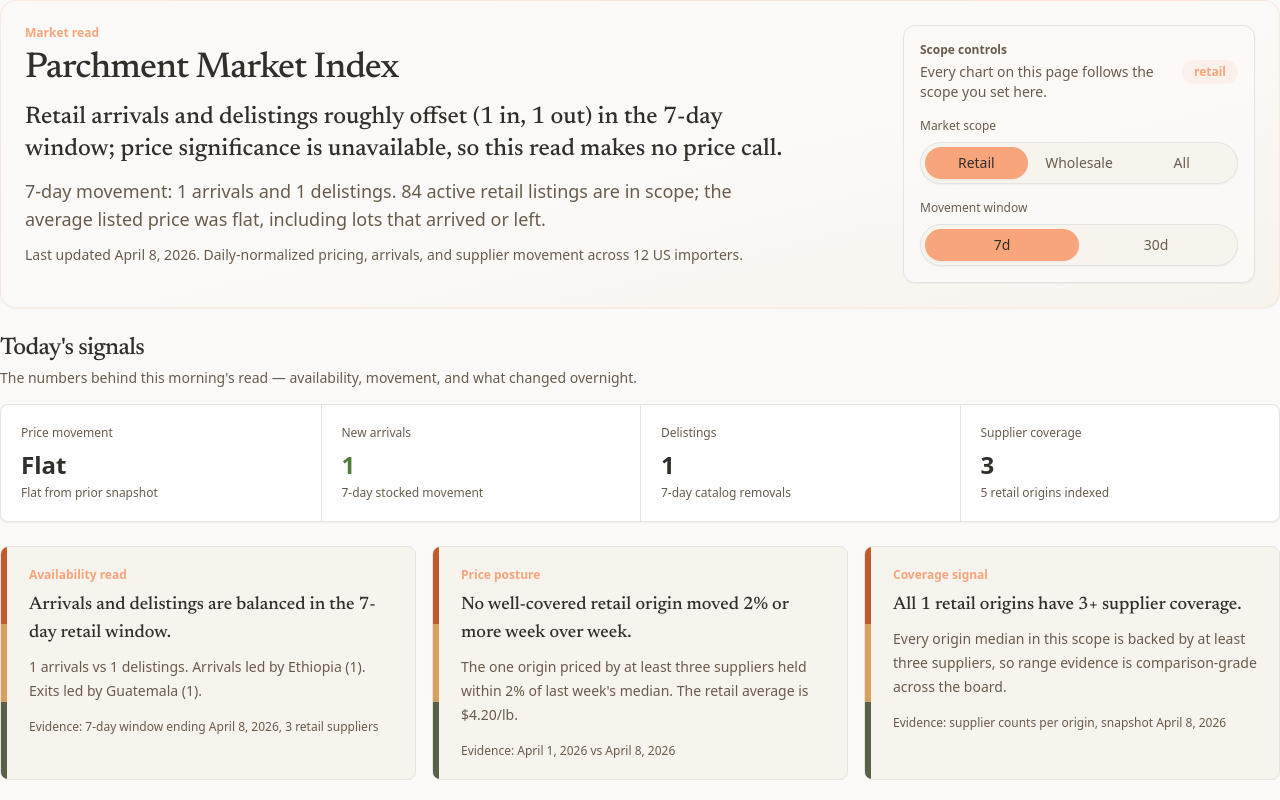
it: analytics command center hierarchy › compares combined-scope origin movers per segment instead of averaging medians
Click the button "All" at (1182, 163), box [1130,147,1233,179]
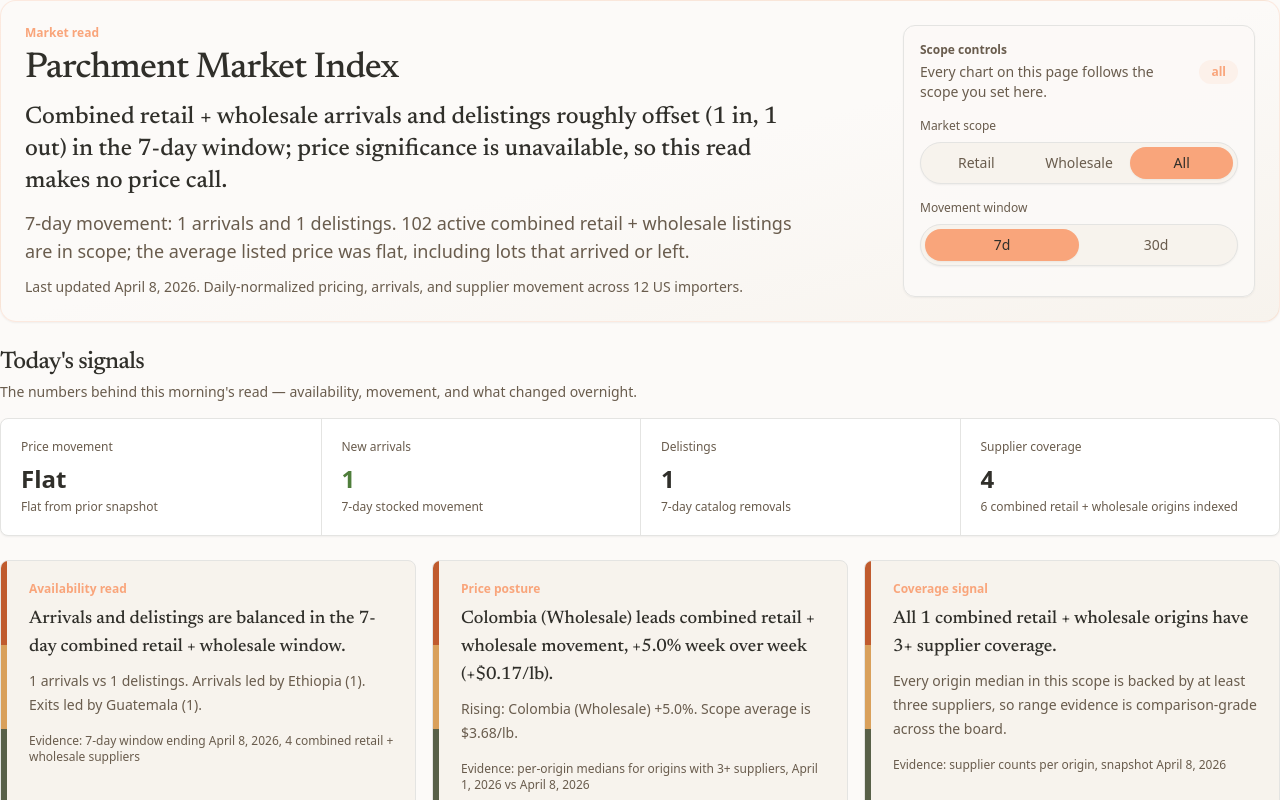
Expected: the heading "Colombia (Wholesale) leads combined retail + wholesale movement, +5.0% week over week" is shown, [461,610,815,684]
